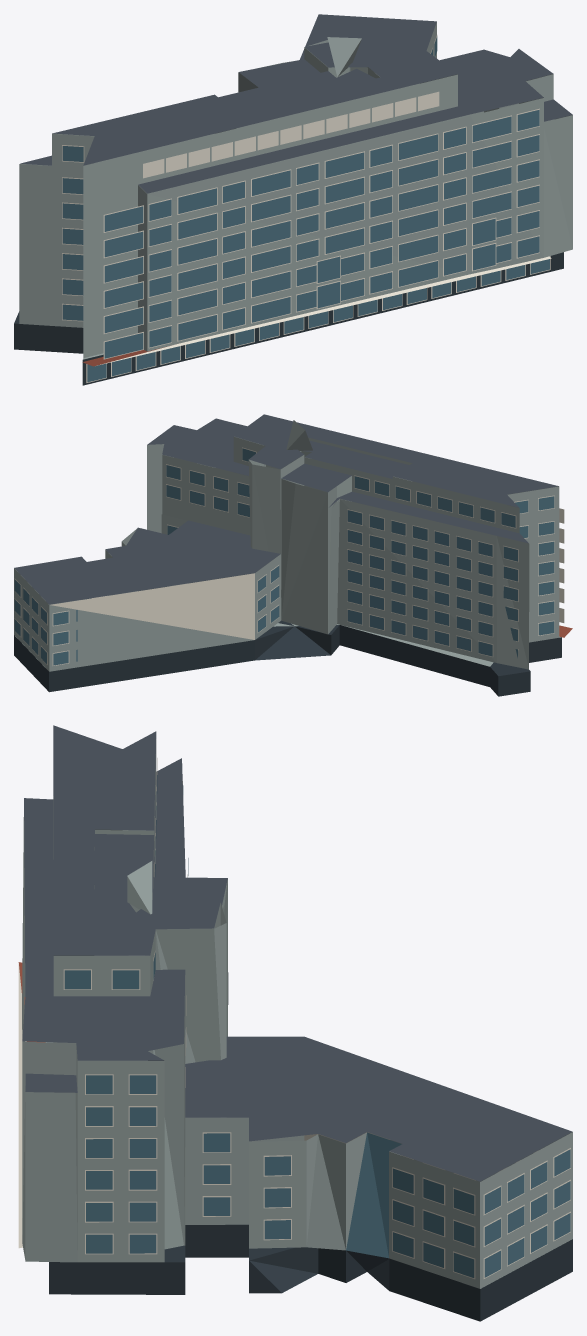
File: amsta-de-poort.lod2.glb
3 views of the same model, one above another, from view 1: azimuth 30°, elevation 25°; view 2: azimuth 150°, elevation 25°; view 3: azimuth 270°, elevation 25° (orthographic). The views are drawn at different scales.
Visible parts, largest first — view 1: lod2; view 2: lod2; view 3: lod2.
Boxes of the visible parts, x1,y1,x2,y2 form: lod2: (14, 14, 572, 385); lod2: (14, 414, 572, 696); lod2: (18, 725, 572, 1321).
Size of the model in its own units: 71.85 by 31.7 by 51.19.
